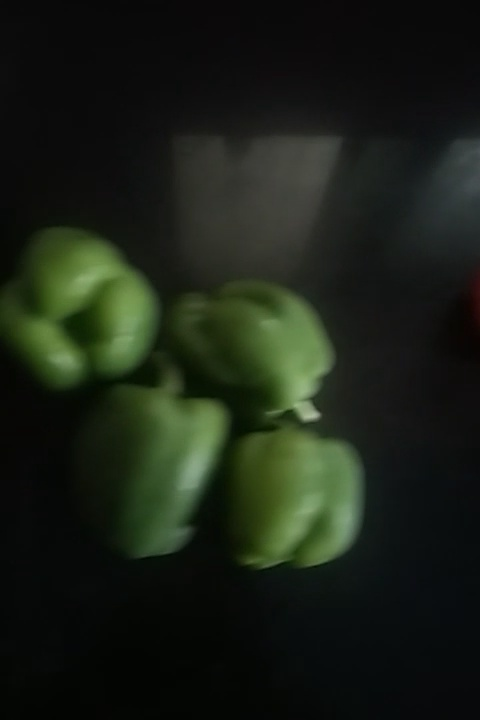capsicum: (75, 390, 237, 569), (7, 222, 168, 401), (169, 281, 349, 421), (230, 429, 375, 573)
